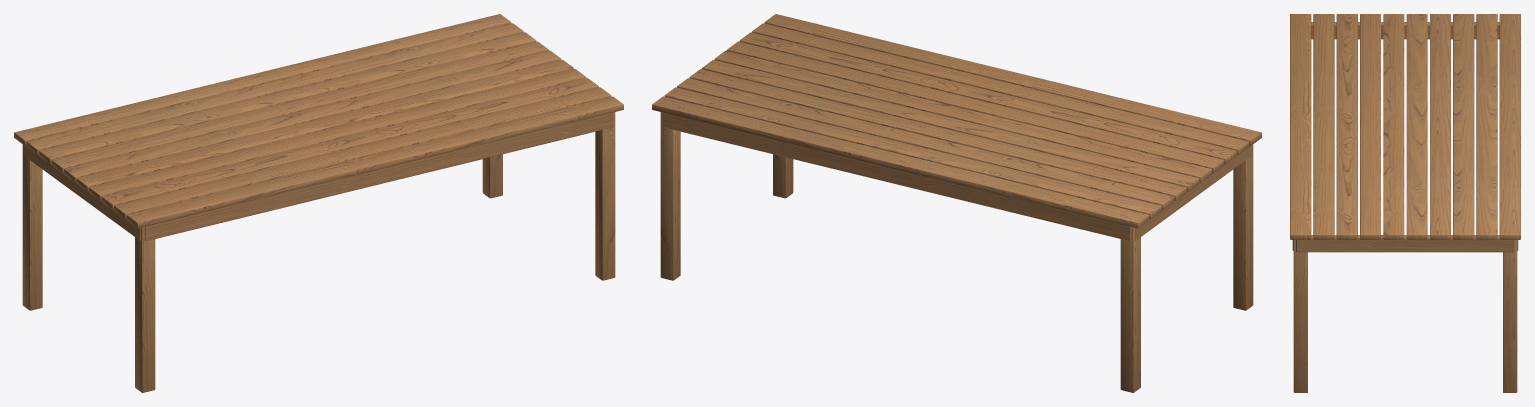
File: mesa_teca_exterior_220.glb
3 renders of one model, left to right at view 1: azimuth 30°, elevation 25°; view 2: azimuth 150°, elevation 25°; view 3: azimuth 270°, elevation 25°, orthographic. The views are drawn at different scales.
Parts seen in each view (by area): view 1: mesa_teca_exterior_220; view 2: mesa_teca_exterior_220; view 3: mesa_teca_exterior_220.
Boxes of the visible parts, box(x1,y1,x2,y2) form: mesa_teca_exterior_220: box(14, 14, 623, 392); mesa_teca_exterior_220: box(652, 14, 1261, 392); mesa_teca_exterior_220: box(1290, 14, 1520, 392).
Bounding box in the file's own units: 2.2 × 0.7499 × 0.9709.
Materials: 1 (1 with a texture image).
